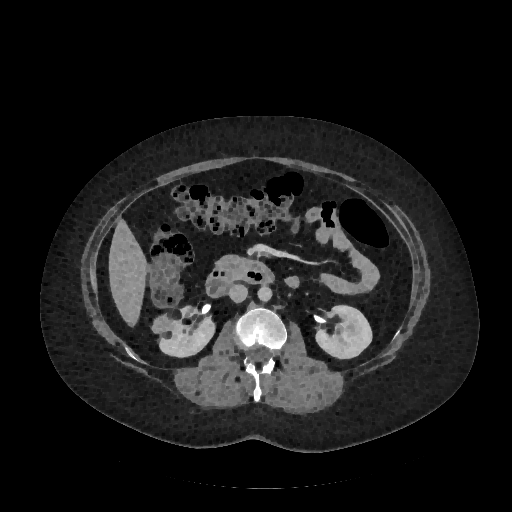Lesion: (145, 309, 177, 338)
